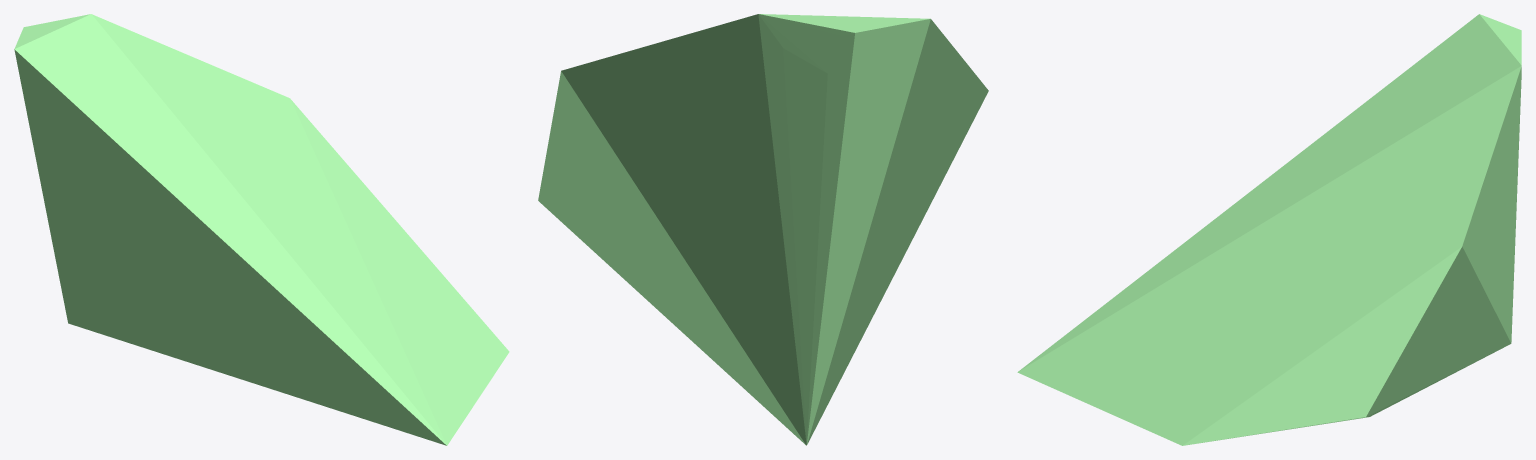
The model's file is linkhou_robot_base_coll_26.dae.
The picture shows the model from 3 angles, left to right: view 1: azimuth 30°, elevation 25°; view 2: azimuth 150°, elevation 25°; view 3: azimuth 270°, elevation 25°; orthographic projection. The views are drawn at different scales.
Visible parts, largest first — view 1: Node_0000029808438130; view 2: Node_0000029808438130; view 3: Node_0000029808438130.
Part boxes in pixels (left/top/right/bottom): Node_0000029808438130: left=14, top=14, right=509, bottom=445; Node_0000029808438130: left=538, top=14, right=988, bottom=445; Node_0000029808438130: left=1017, top=14, right=1521, bottom=445.
Size of the model in its own units: 0.1245 by 0.1052 by 0.1624.
